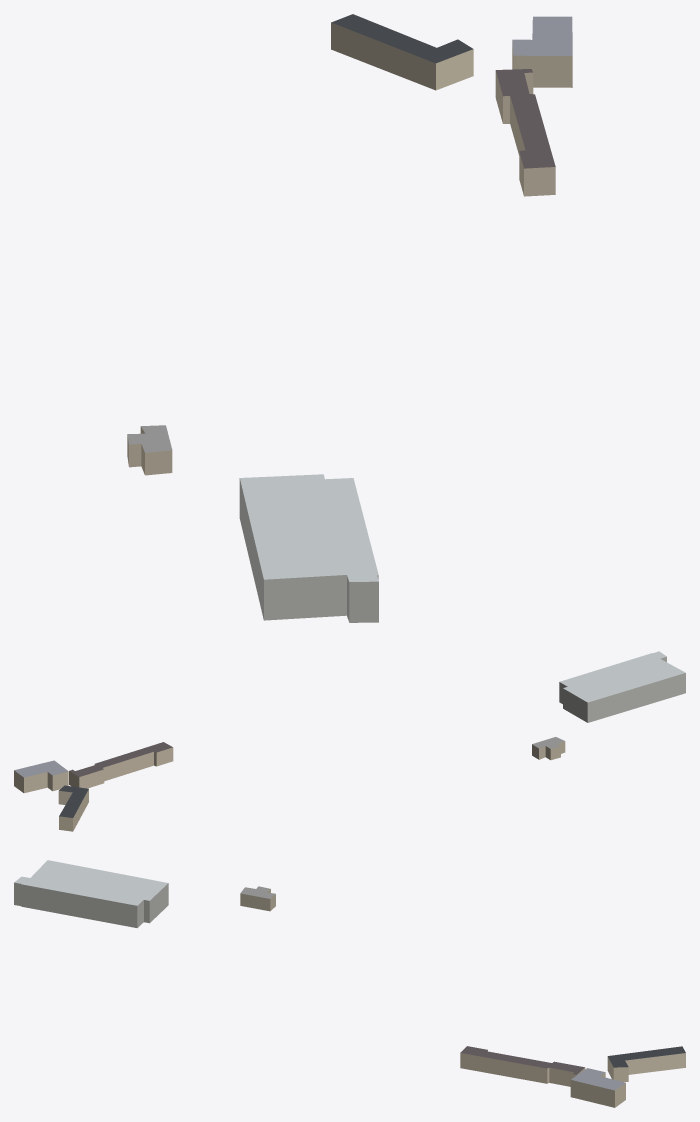
3 renders of one model, top to bottom at view 1: azimuth 30°, elevation 25°; view 2: azimuth 150°, elevation 25°; view 3: azimuth 270°, elevation 25°, orthographic. The views are drawn at different scales.
Parts seen in each view (by area): view 1: tuile; view 2: tuile; view 3: tuile.
Boxes of the visible parts, left/top/right/bottom form: tuile: left=127, top=14, right=572, bottom=622; tuile: left=14, top=651, right=685, bottom=831; tuile: left=14, top=860, right=685, bottom=1107.
Bounding box in the file's own units: 178 × 11.08 × 229.
